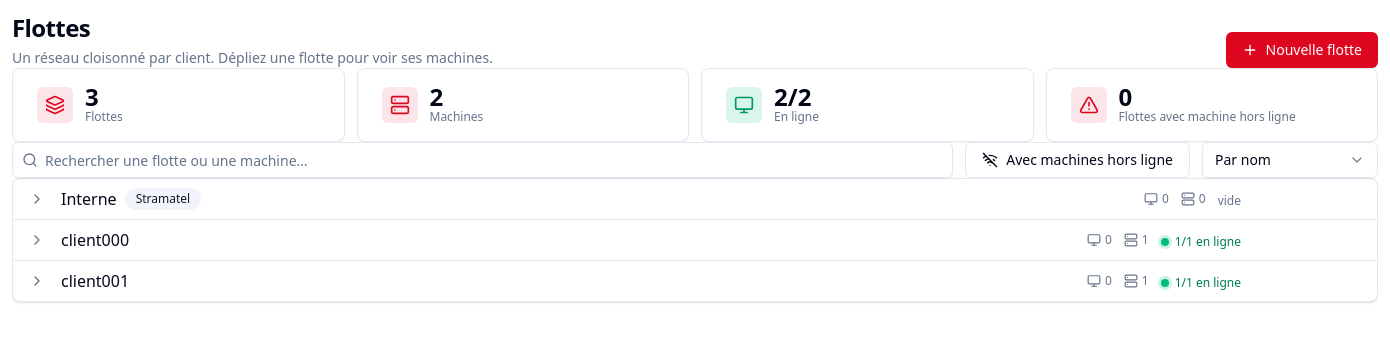
Test: FleetsHome › chercher une machine retrouve et déplie sa flotte
Check: the link "client000" is shown, box x1=61 y1=228 x2=129 y2=252
Type "machine-9" into the field labelled "Rechercher une flotte ou une machine…". click: (483, 160)
box: x1=12 y1=142 x2=953 y2=178
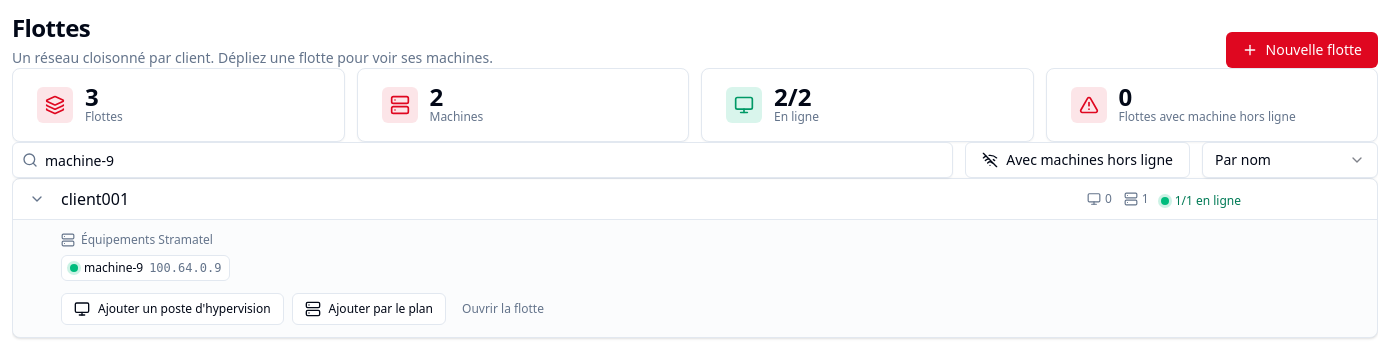
Check: the link "client000" is gone
Check: the text "machine-9" is shown, box x1=84 y1=260 x2=143 y2=276
